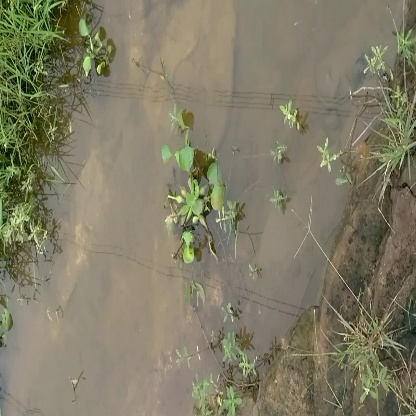leaf: (148, 136, 233, 260)
